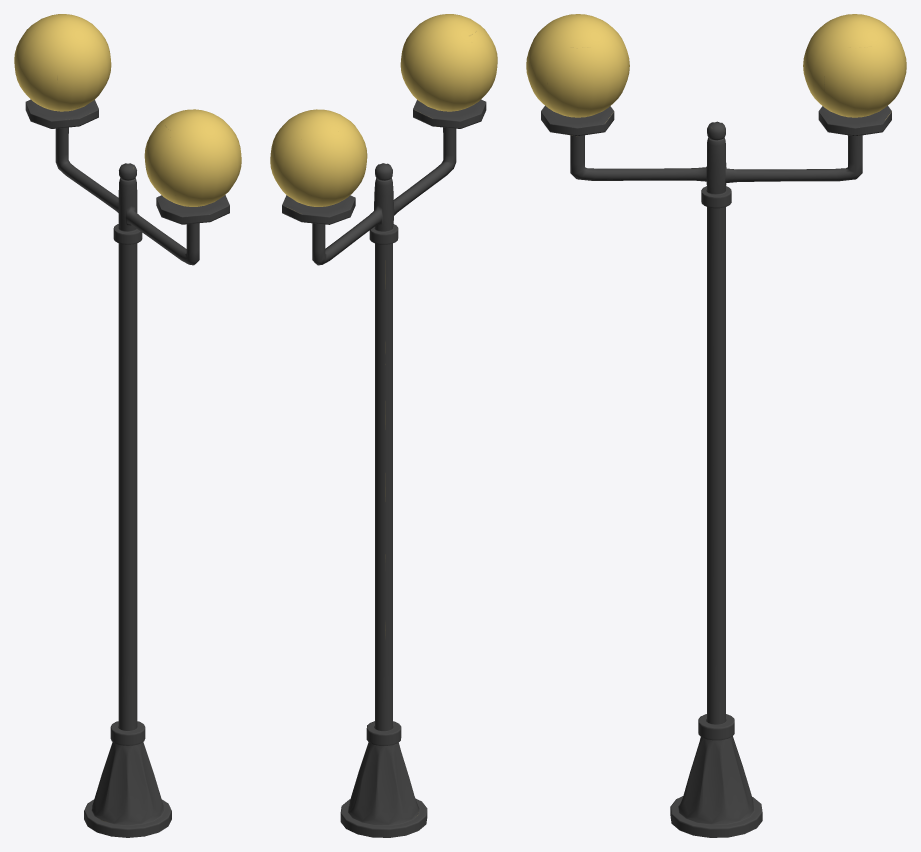
File: lampadaire.obj
The picture shows the model from 3 angles, left to right: view 1: azimuth 30°, elevation 25°; view 2: azimuth 150°, elevation 25°; view 3: azimuth 270°, elevation 25°; orthographic projection. The views are drawn at different scales.
Parts seen in each view (by area): view 1: farol; view 2: farol; view 3: farol.
Part boxes in pixels (x1,y1,x2,y2): farol: (14, 14, 241, 837); farol: (270, 14, 497, 837); farol: (526, 14, 906, 837).
Size of the model in its own units: 0.7402 by 6.29 by 2.72.
1 material, 1 textured.
